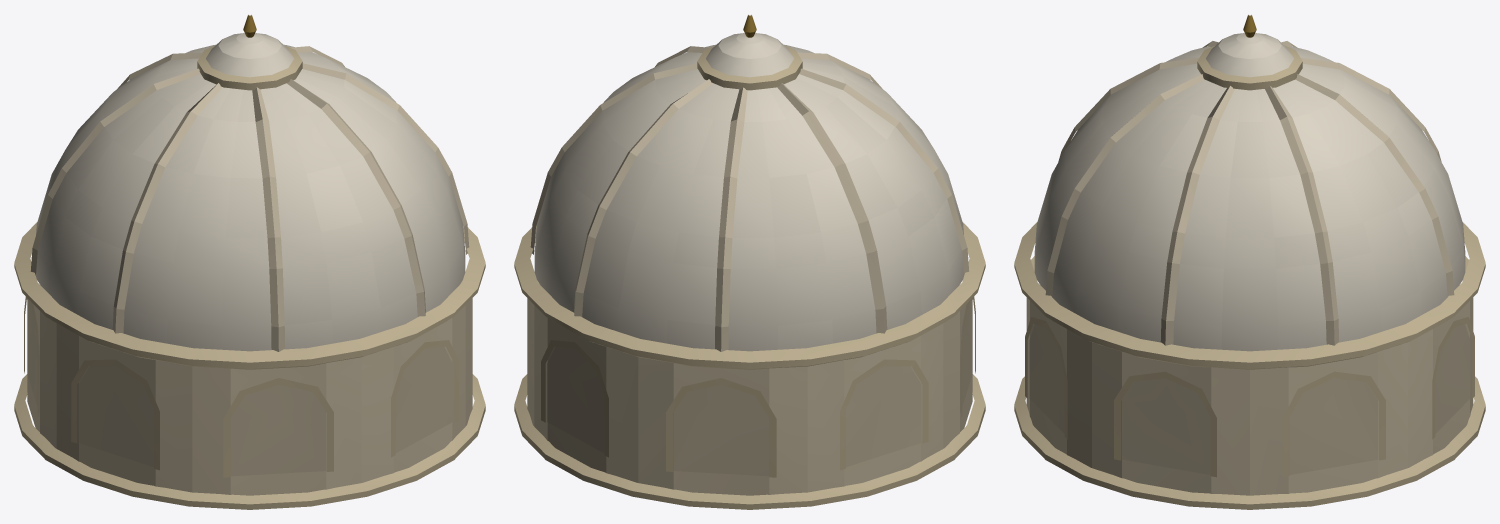
The model's file is dome.closed_8.plaster.glb.
3 views of the same model, side by side, from view 1: azimuth 30°, elevation 25°; view 2: azimuth 150°, elevation 25°; view 3: azimuth 270°, elevation 25° (orthographic).
Visible parts, largest first — view 1: dome_closed_8_plaster; view 2: dome_closed_8_plaster; view 3: dome_closed_8_plaster.
Boxes of the visible parts, <box> form: dome_closed_8_plaster: <box>14,15,485,509</box>; dome_closed_8_plaster: <box>514,15,985,509</box>; dome_closed_8_plaster: <box>1014,15,1485,509</box>.
Size of what is drawn, in the model's own units: 7.6 by 7.03 by 7.6.
